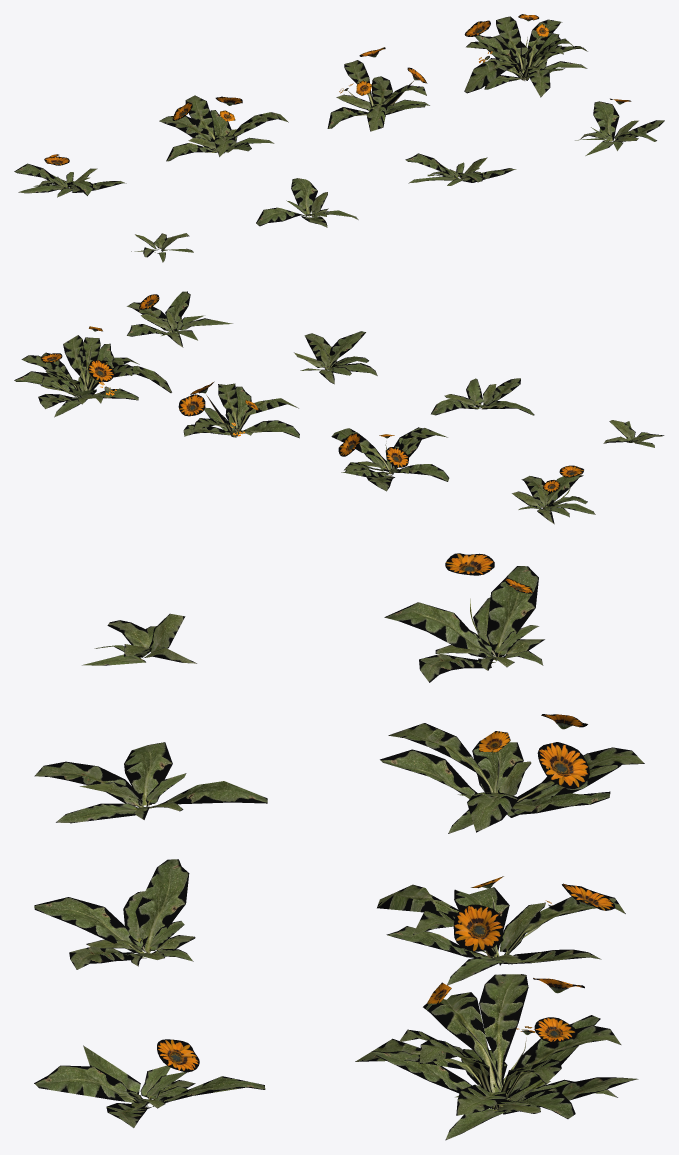
The model's file is flower_gazania.glb.
The picture shows the model from 3 angles, top to bottom: view 1: azimuth 30°, elevation 25°; view 2: azimuth 150°, elevation 25°; view 3: azimuth 270°, elevation 25°; orthographic projection. The views are drawn at different scales.
Parts seen in each view (by area): view 1: flower_gazania_a_LOD0; view 2: flower_gazania_a_LOD0; view 3: flower_gazania_a_LOD0.
Part boxes in pixels (bbox=[...]): flower_gazania_a_LOD0: bbox=[14, 14, 664, 262]; flower_gazania_a_LOD0: bbox=[14, 291, 664, 524]; flower_gazania_a_LOD0: bbox=[34, 553, 644, 1140].
Bounding box in the file's own units: 1.48 × 0.1637 × 0.699.
Materials: 1 (1 with a texture image).
